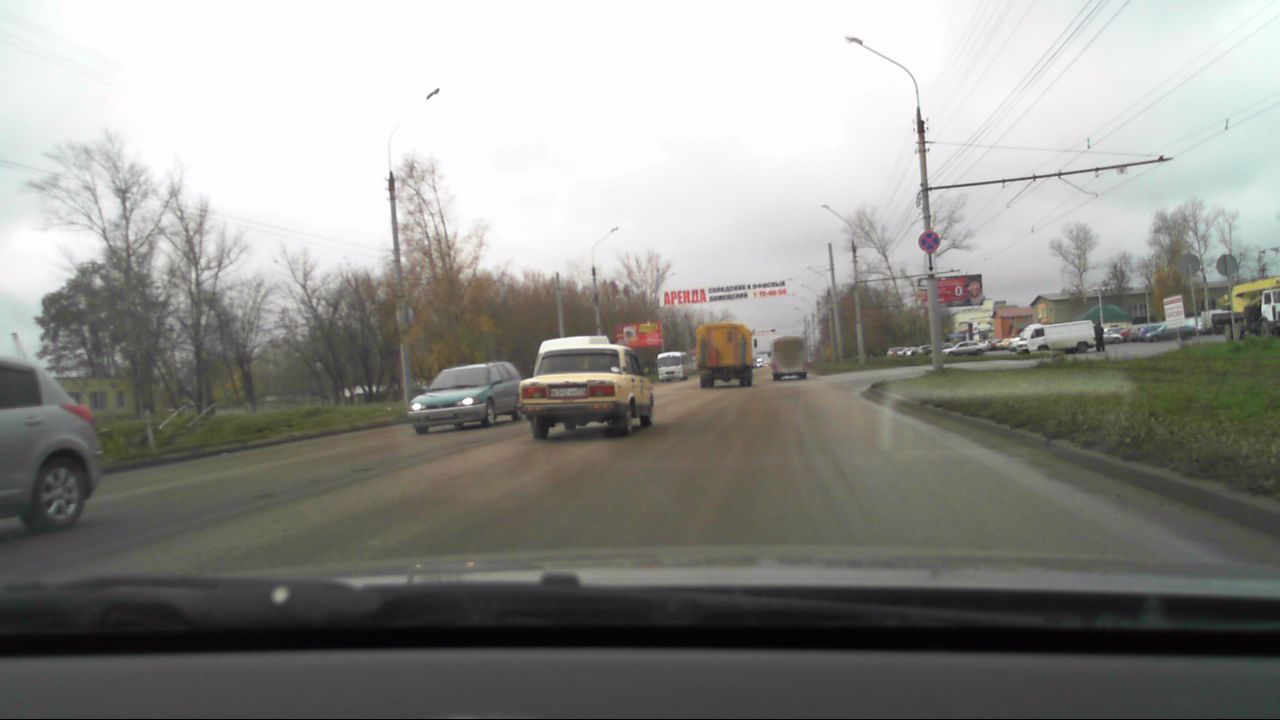No Parking: (916, 230, 943, 254)
